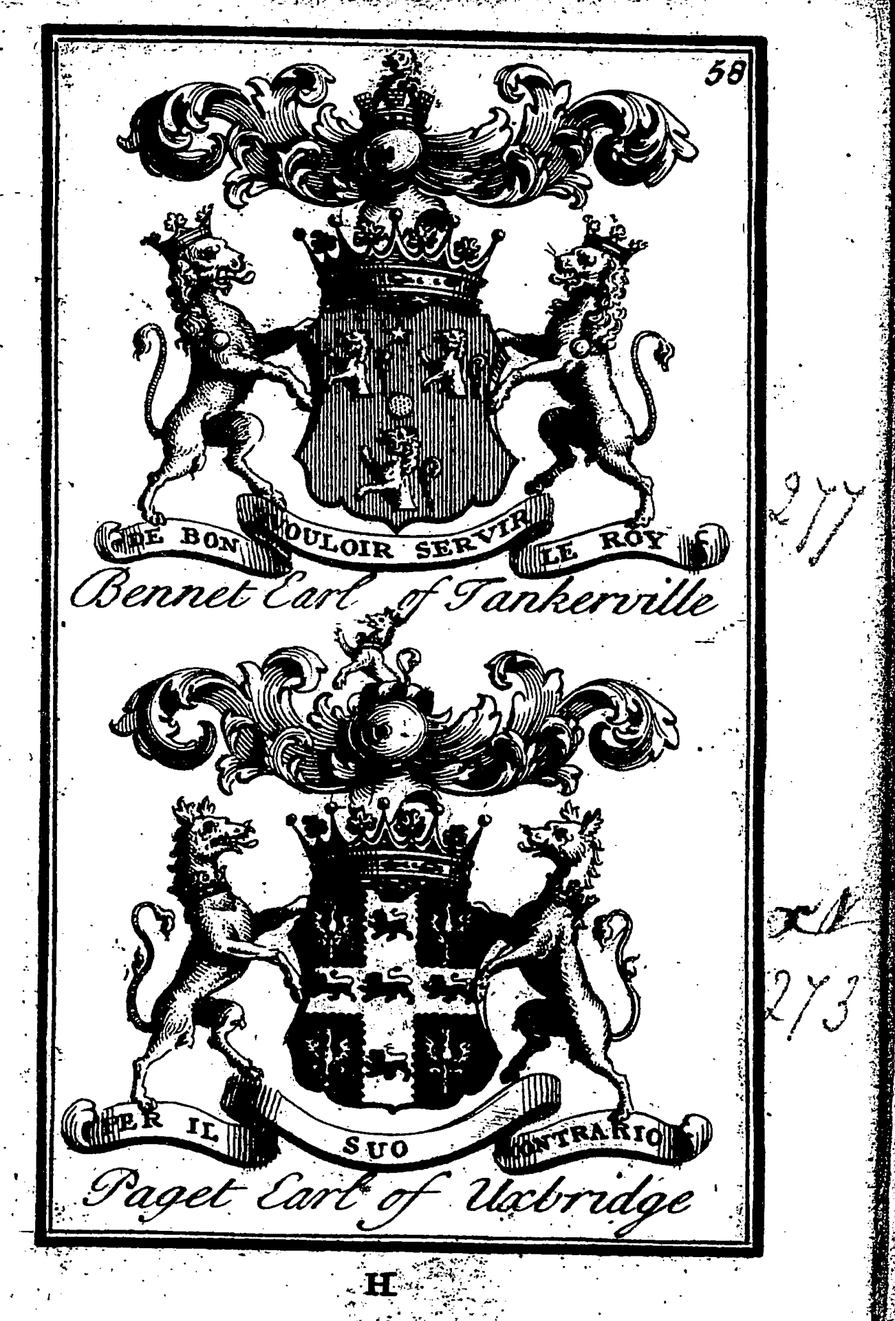coat_of_arms: (65, 624, 712, 1226), (56, 47, 726, 622)
